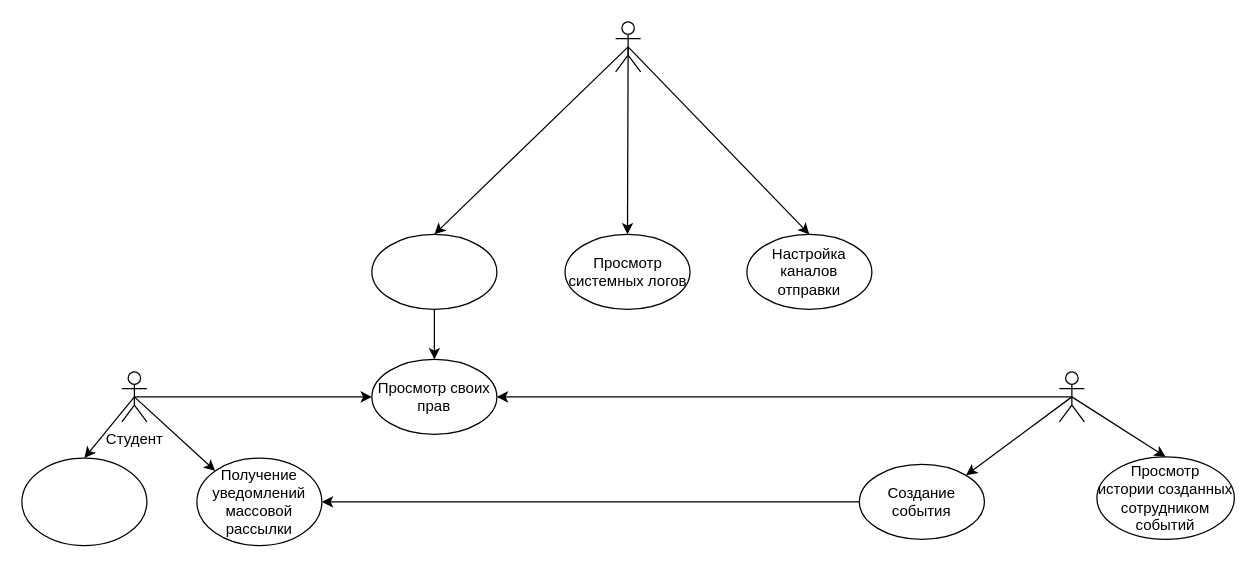
The diagram is 1256 pixels wide and 568 high, and some of its shapes have lost their labels. Each missing label, with the centre of its shape:
"Администратор ИС" goes at point 627,46.
"Просмотр истории полученных событий" goes at point 84,501.
"Сотрудник ВУЗа" goes at point 1071,396.
"Управление пользователями и правами" goes at point 434,271.
